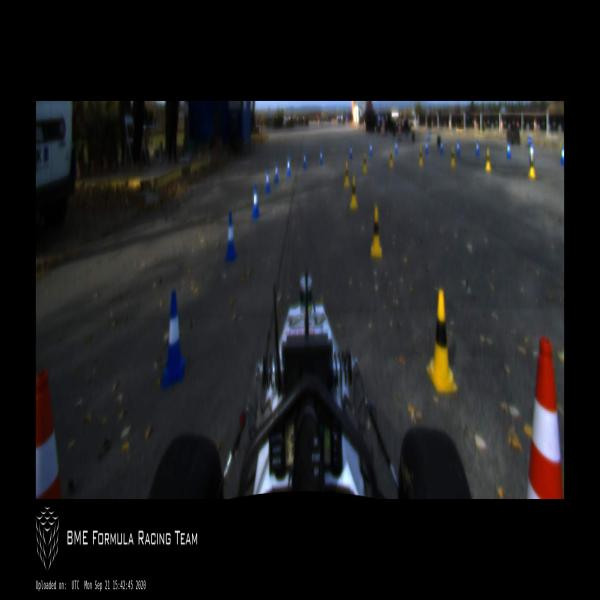blue_cone: (160, 290, 186, 389), (224, 213, 236, 263), (251, 184, 260, 218), (264, 168, 271, 192), (528, 143, 535, 164), (274, 160, 280, 183), (286, 157, 291, 176), (560, 147, 564, 167), (475, 140, 480, 156), (507, 143, 512, 158), (303, 152, 307, 170), (369, 138, 373, 155), (456, 138, 460, 155), (394, 140, 398, 156), (425, 138, 429, 154), (320, 147, 322, 165), (440, 141, 443, 153), (350, 143, 352, 160)
large_orange_cone: (526, 335, 564, 499), (36, 373, 61, 498)
yellow_cone: (426, 289, 458, 395), (369, 205, 383, 259), (350, 176, 358, 208), (528, 150, 536, 179), (344, 162, 350, 188), (485, 148, 491, 172), (450, 147, 456, 167), (418, 146, 423, 166), (389, 149, 394, 168), (363, 152, 367, 172)
